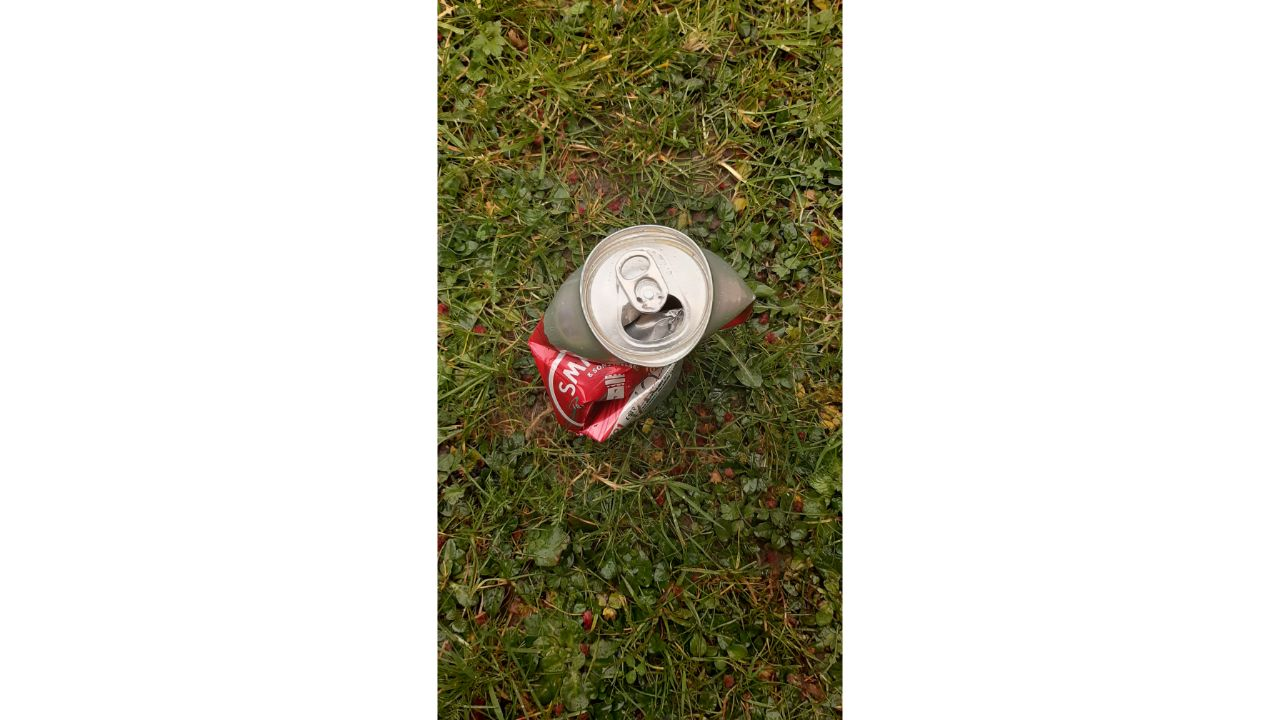Can: (526, 222, 760, 443)
